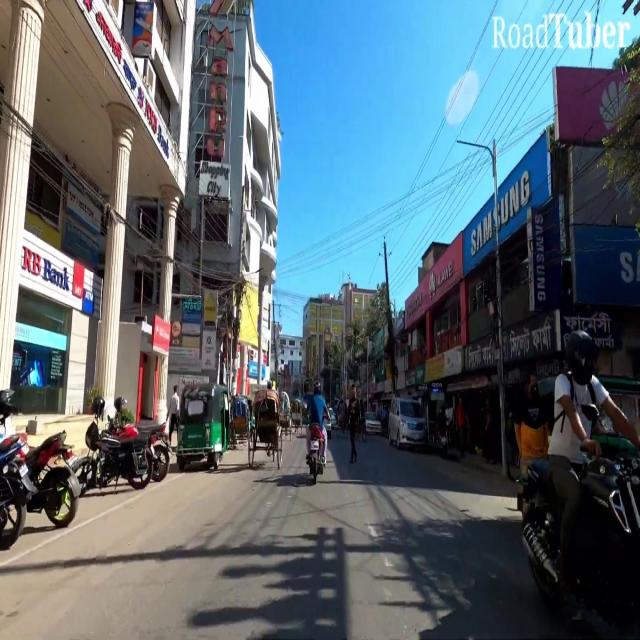silver: (387, 395, 428, 452)
white: (364, 408, 384, 435)
